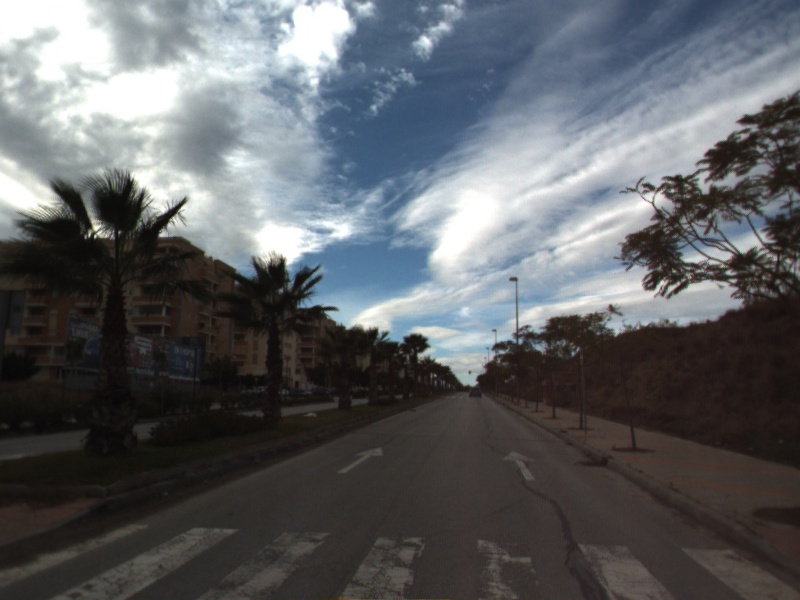STRAIGHT: (335, 444, 385, 475), (500, 448, 538, 483)
